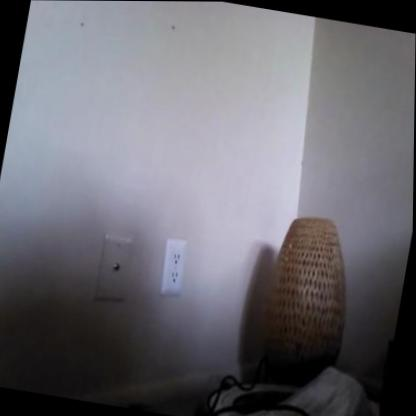OUTLET: (158, 238, 188, 297)
